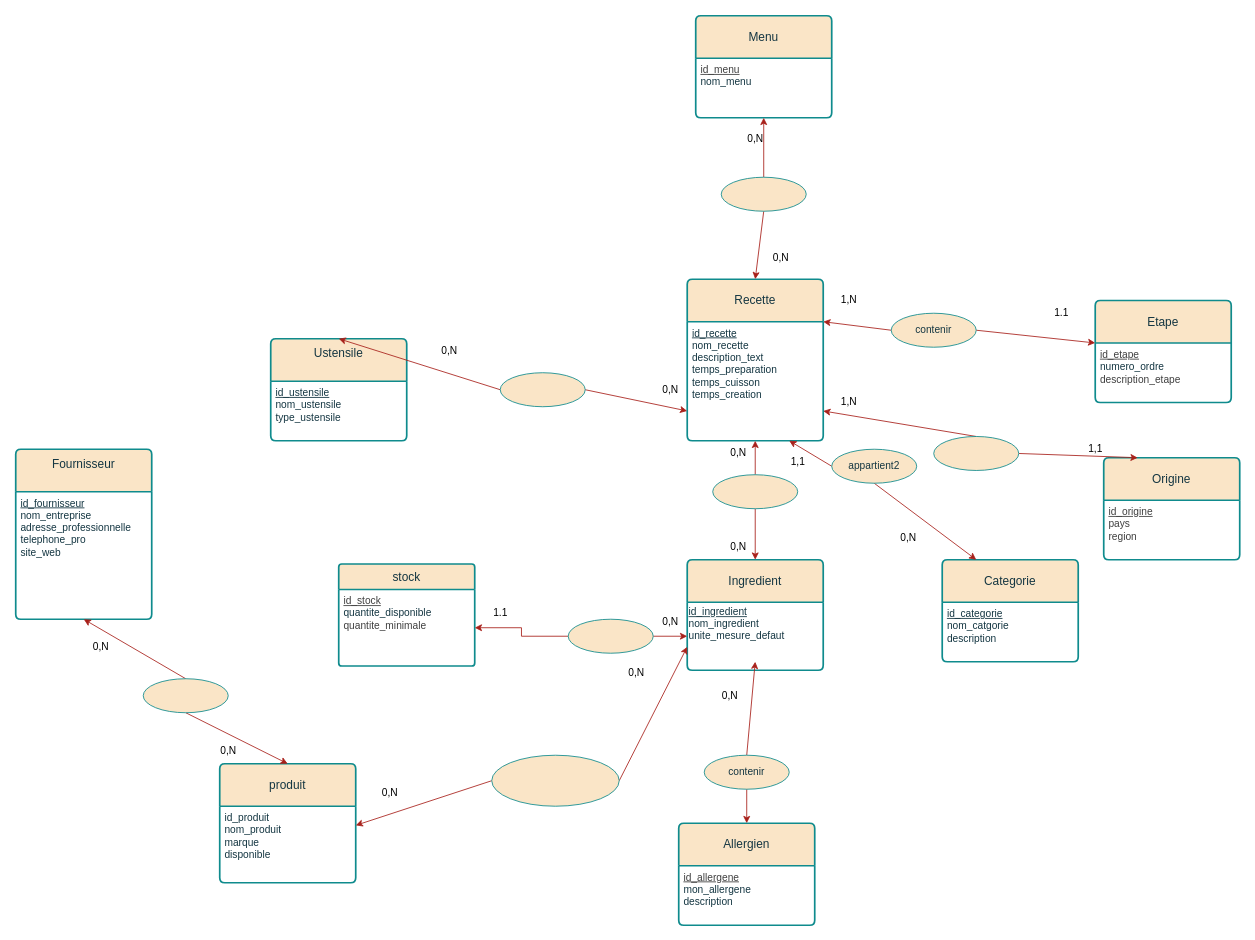
Some shapes in this 1255 by 940 pixel diagram are drawn without their labels. Here are the shapes that lost their labels. From the top down, the centre of each, then its label:
the point at 763,193: appartient
the point at 542,389: nécessiter
the point at 976,453: provenir
the point at 755,491: composer
the point at 610,635: se trouve2
the point at 185,695: fournir -prix
the point at 555,780: IngredientProduit
